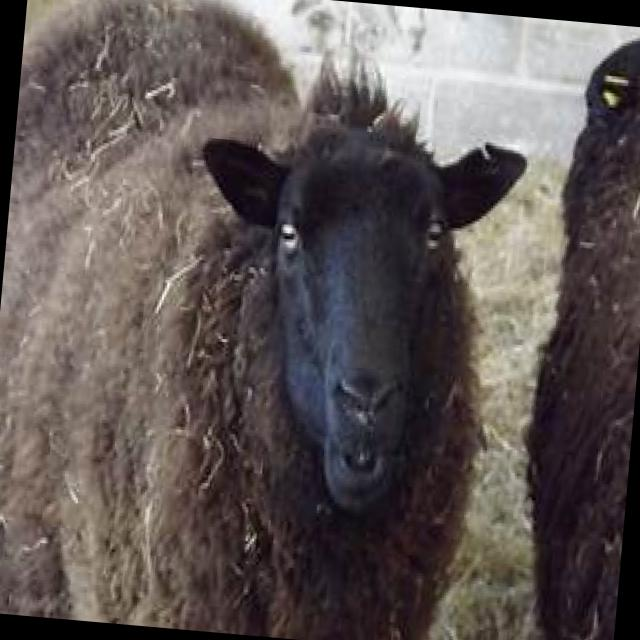animal: (0, 0, 540, 640)
